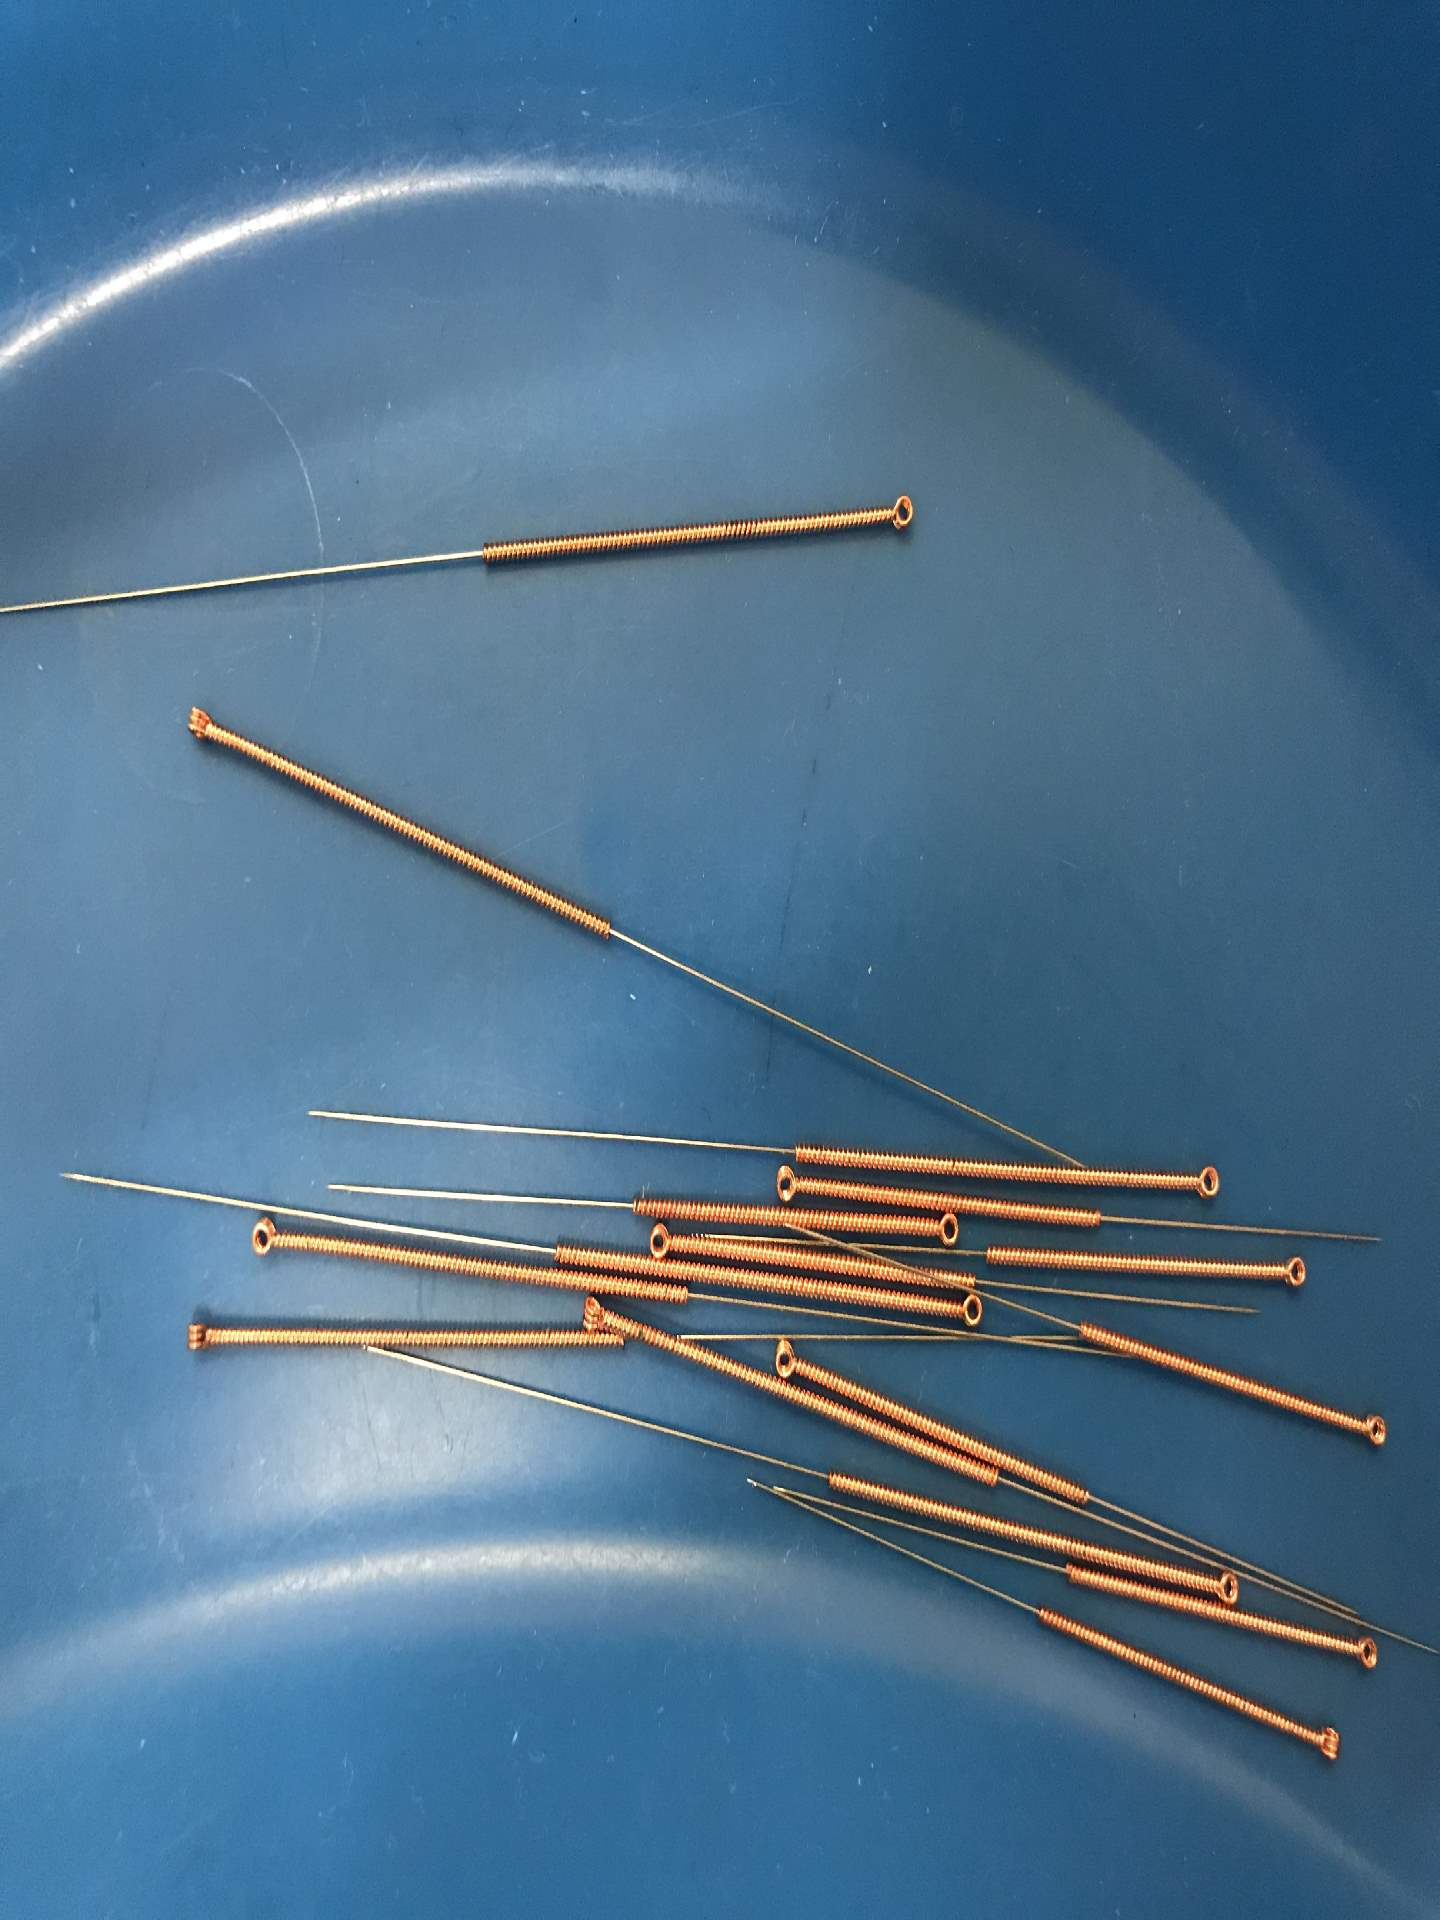needle: (858, 478, 930, 544), (165, 689, 230, 754), (1296, 1711, 1355, 1776), (1168, 1157, 1233, 1211), (169, 1308, 225, 1367), (1260, 1246, 1322, 1299), (1331, 1625, 1393, 1677), (1342, 1400, 1396, 1457), (236, 1209, 289, 1265), (567, 1290, 619, 1336), (759, 1163, 811, 1206), (917, 1206, 965, 1252), (1201, 1565, 1248, 1609), (945, 1288, 989, 1333), (768, 1336, 806, 1388), (638, 1222, 684, 1262)
